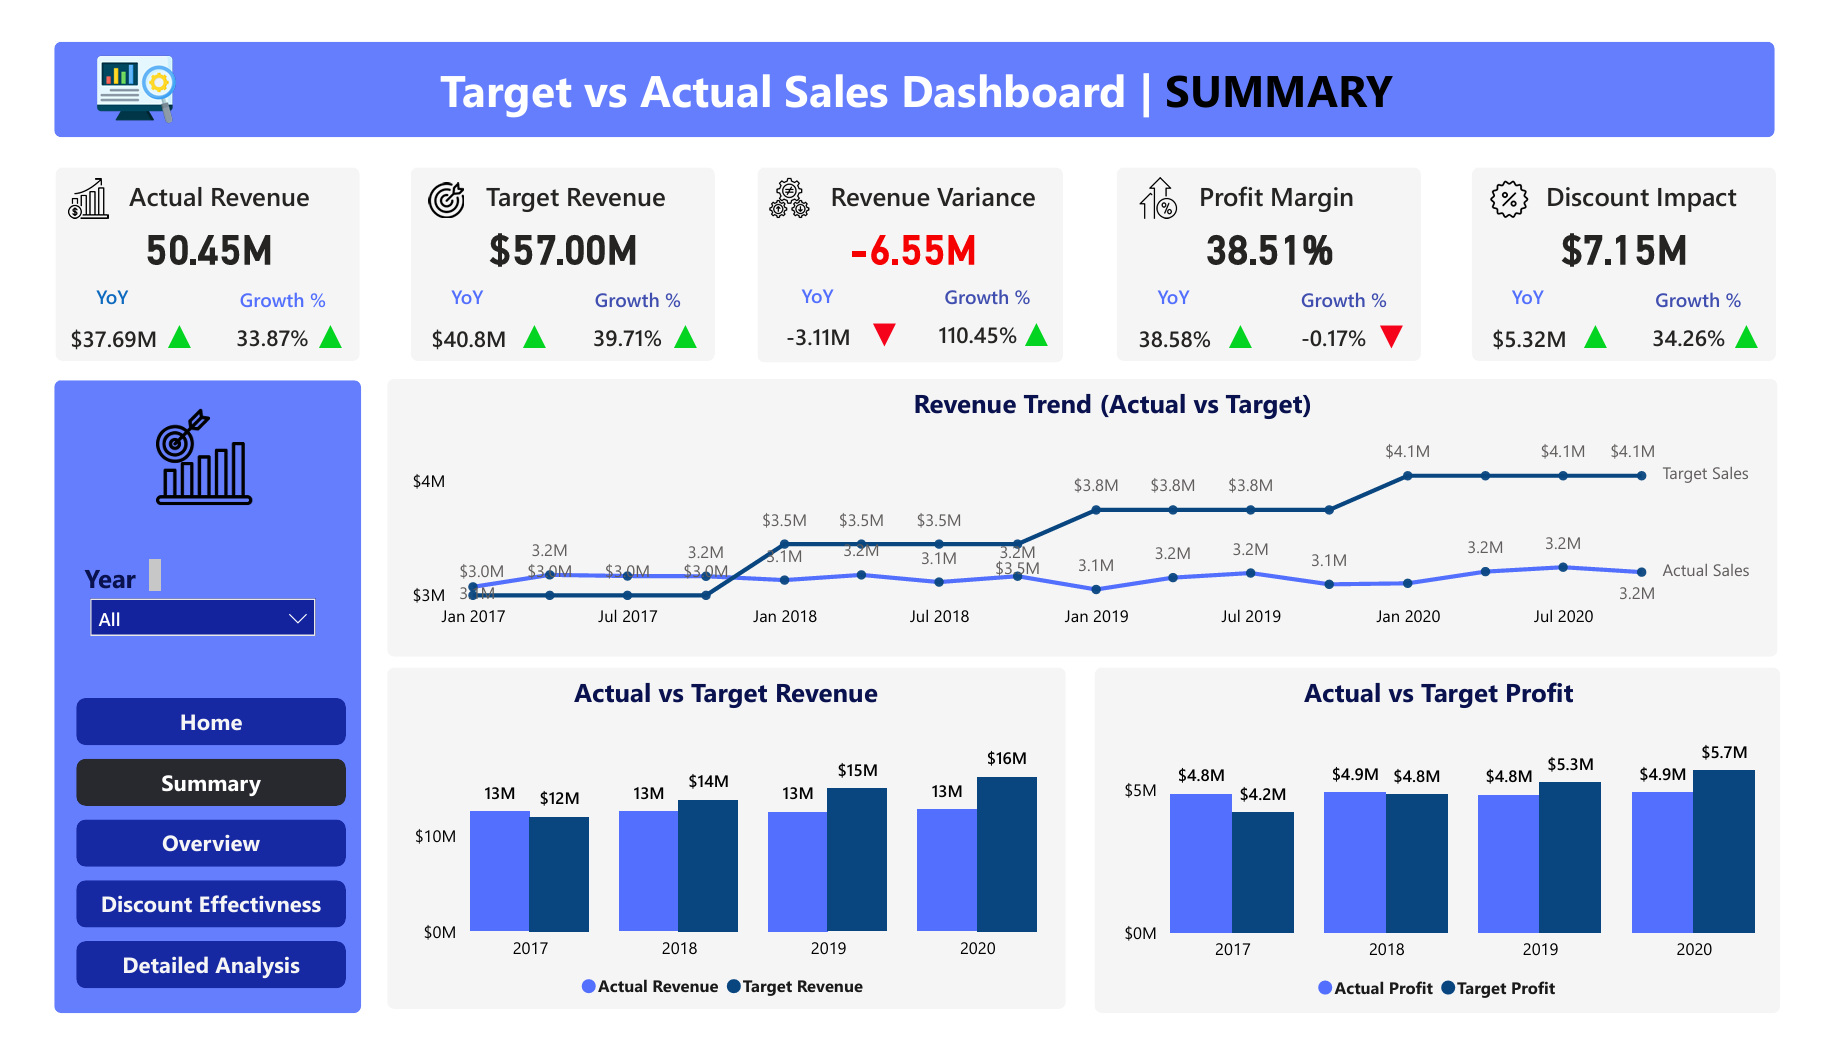

What the dashboard file says about the page in this screenshot:
{"tool":"powerbi","page":{"name":" Summary","canvas":[1280,720],"ordinal":1},"visuals":[{"type":"shape","box":[15.9,7.2,1245.1,69.3],"z":0},{"type":"shape","box":[17.3,98.1,220,140],"z":0,"group":"g3"},{"type":"shape","box":[274.1,98.1,220,140],"z":0,"group":"g4"},{"type":"shape","box":[784.9,98.1,220,140],"z":0,"group":"g5"},{"type":"shape","box":[256.8,251,1005.6,200.5],"z":0,"group":"g7"},{"type":"group","id":"g1","title":"Group 5","box":[256.8,460.2,490.5,249.2],"z":0,"group":"g6"},{"type":"group","id":"g2","title":"Group 6","box":[256.8,460.2,490.5,249.2],"z":0,"group":"g1"},{"type":"shape","box":[256.8,460.2,490.5,246.5],"z":0,"group":"g2"},{"type":"shape","box":[769,460.2,496.3,249.6],"z":0,"group":"g8"},{"type":"shape","box":[1041.7,98.1,220,140],"z":1000},{"type":"card","fields":{"Values":["Calculation_col.Actual Sales"]},"box":[53.4,132.7,148.6,46.2],"z":1000,"group":"g3"},{"type":"card","fields":{"Values":["Calculation_col.Target Sales"]},"box":[310.2,132.7,148.6,46.2],"z":1000,"group":"g4"},{"type":"card","fields":{"Values":["Calculation_col.Profit Margin"]},"box":[821,132.7,148.6,46.2],"z":1000,"group":"g5"},{"type":"lineChart","fields":{"Y":["Calculation_col.Actual Sales","Calculation_col.Target Sales"],"Category":["Calender.Date.Variation.Date Hierarchy.Year","Calender.Date.Variation.Date Hierarchy.Quarter"]},"box":[269.8,270.2,992.6,171.1],"z":1000,"group":"g7"},{"type":"textbox","box":[354.3,460.2,294,42.9],"z":1000,"group":"g2"},{"type":"clusteredColumnChart","fields":{"Category":["Calender.Year"],"Y":["Calculation_col.Actual Profit","Calculation_col.Target Profit"]},"box":[785.4,499,466.4,210.8],"z":1000,"group":"g8"},{"type":"shape","box":[525.2,98.1,220.7,141.4],"z":2000},{"type":"textbox","box":[62,101,147.2,34.6],"z":2000,"group":"g3"},{"type":"textbox","box":[320.3,101,147.2,34.6],"z":2000,"group":"g4"},{"type":"textbox","box":[826.7,101,147.2,34.6],"z":2000,"group":"g5"},{"type":"textbox","box":[589.1,251,385.8,41.3],"z":2000,"group":"g7"},{"type":"textbox","box":[869.2,460.2,297.5,43.4],"z":2000,"group":"g8"},{"type":"clusteredColumnChart","fields":{"Y":["Calculation_col.Actual Sales","Calculation_col.Target Sales"],"Category":["Calender.Year"]},"box":[271,501.2,461,208.3],"z":2000,"group":"g2"},{"type":"card","fields":{"Values":["Calculation_col.Discount Impact"]},"box":[1077.7,132.7,148.6,46.2],"z":3000},{"type":"card","fields":{"Values":["Calculation_col.YoY Sales"]},"box":[17.3,209.2,83.7,30.3],"z":3000,"group":"g3"},{"type":"card","fields":{"Values":["Calculation_col.YoY Target Sales"]},"box":[274.1,209.2,83.7,30.3],"z":3000,"group":"g4"},{"type":"card","fields":{"Values":["Calculation_col.YoY Profit M"]},"box":[784.9,209.2,83.7,30.3],"z":3000,"group":"g5"},{"type":"textbox","box":[15.3,14.4,1249.4,73.6],"z":4000},{"type":"card","fields":{"Values":["Calculation_col.YoY Growth Sales %"]},"box":[132.7,209.2,83.7,27.4],"z":4000,"group":"g3"},{"type":"card","fields":{"Values":["Calculation_col.YoY Target Growth Sales %"]},"box":[389.5,209.2,83.7,27.4],"z":4000,"group":"g4"},{"type":"card","fields":{"Values":["Calculation_col.YoY profit m growth %"]},"box":[900.3,209.2,83.7,27.4],"z":4000,"group":"g5"},{"type":"card","fields":{"Values":["Calculation_col.Sales Varience"]},"box":[562.7,132.7,148.6,46.2],"z":5000},{"type":"textbox","box":[18.7,177.5,79.4,31.7],"z":5000,"group":"g3"},{"type":"textbox","box":[275.5,177.5,79.4,31.7],"z":5000,"group":"g4"},{"type":"textbox","box":[786.3,177.5,79.4,31.7],"z":5000,"group":"g5"},{"type":"textbox","box":[559.8,101,178.9,39],"z":6000},{"type":"textbox","box":[137,178.9,89.5,31.7],"z":6000,"group":"g3"},{"type":"textbox","box":[393.8,178.9,89.5,31.7],"z":6000,"group":"g4"},{"type":"textbox","box":[904.6,178.9,89.5,31.7],"z":6000,"group":"g5"},{"type":"textbox","box":[1083.5,101,161.6,34.6],"z":7000},{"type":"card","fields":{"Values":["Calculation_col.Sales_icon"]},"box":[85.1,203.4,43.3,34.6],"z":7000,"group":"g3"},{"type":"card","fields":{"Values":["Calculation_col.Target 1_icon"]},"box":[341.9,203.4,43.3,34.6],"z":7000,"group":"g4"},{"type":"card","fields":{"Values":["Calculation_col.PM YoY 1"]},"box":[852.7,203.4,43.3,34.6],"z":7000,"group":"g5"},{"type":"card","fields":{"Values":["Calculation_col.Sales_2 icon"]},"box":[194.8,203.4,43.3,34.6],"z":8000,"group":"g3"},{"type":"card","fields":{"Values":["Calculation_col.Target 2_icon"]},"box":[451.6,203.4,43.3,34.6],"z":8000,"group":"g4"},{"type":"card","fields":{"Values":["Calculation_col.PM YoY 2"]},"box":[962.4,203.4,43.3,34.6],"z":8000,"group":"g5"},{"type":"card","fields":{"Values":["Calculation_col.YoY Sales Variance"]},"box":[527.2,207.3,83.7,30.3],"z":8000},{"type":"card","fields":{"Values":["Calculation_col.YoY Discount"]},"box":[1041.7,209.2,83.7,30.3],"z":9000},{"type":"group","id":"g3","title":"Group 1","box":[17.3,98.1,220.7,141.4],"z":10000},{"type":"card","fields":{"Values":["Calculation_col.YoY Discount Growth %"]},"box":[1157.1,209.2,83.7,27.4],"z":11000},{"type":"card","fields":{"Values":["Calculation_col.YoY Sales Variance %"]},"box":[642.6,207.3,83.7,27.4],"z":12000},{"type":"textbox","box":[1043.1,177.5,79.4,31.7],"z":13000},{"type":"group","id":"g4","title":"Group 1","box":[274.1,98.1,220.7,141.4],"z":14000},{"type":"textbox","box":[1161.4,178.9,89.5,31.7],"z":15000},{"type":"textbox","box":[528.6,175.6,79.4,31.7],"z":16000},{"type":"card","fields":{"Values":["Calculation_col.Discount 1_icon"]},"box":[1109.5,203.4,43.3,34.6],"z":17000},{"type":"card","fields":{"Values":["Calculation_col.Discount 2_icon"]},"box":[1219.1,203.4,43.3,34.6],"z":18000},{"type":"textbox","box":[646.9,177,89.5,31.7],"z":19000},{"type":"card","fields":{"Values":["Calculation_col.VAriance 1_icon"]},"box":[595,201.5,43.3,34.6],"z":20000},{"type":"card","fields":{"Values":["Calculation_col.Variance 2_icon"]},"box":[704.6,201.5,43.3,34.6],"z":21000},{"type":"group","id":"g5","title":"Group 1","box":[784.9,98.1,220.7,141.4],"z":22000},{"type":"group","id":"g6","title":"Group 2","box":[256.8,460.2,490.5,249.6],"z":23000},{"type":"group","id":"g7","title":"Group 3","box":[256.8,251,1005.6,200.5],"z":24000},{"type":"group","id":"g8","title":"Group 4","box":[769,460.2,496.3,249.6],"z":25000},{"type":"shape","box":[15.9,252.5,222.2,457.4],"z":26000},{"type":"pageNavigator","box":[31.7,481.9,194.8,210.6],"z":27000},{"type":"slicer","fields":{"Values":["Calender.Year"]},"box":[31.7,399.6,183.2,41.8],"z":28000},{"type":"textbox","box":[23.1,376.6,75,34.6],"z":29000},{"type":"image","box":[11.5,101,57.7,39],"z":30000},{"type":"image","box":[279.9,103.9,39,36.1],"z":31000},{"type":"image","box":[523.7,99.6,47.6,40.4],"z":32000},{"type":"image","box":[789.2,99.6,50.5,40.4],"z":33000},{"type":"image","box":[1047.4,101,43.3,40.4],"z":34000},{"type":"image","box":[0,7.2,150,69.3],"z":35000},{"type":"image","box":[53.4,264,141.4,86.6],"z":36000}]}

Visuals, with their boxes in screenshot pixels (x1, y1, x2, y2), scaled from the page's 1280x720 canvas onto the 1832x1057 screenshot:
shape: select_region(23, 11, 1805, 112)
shape: select_region(25, 144, 340, 350)
shape: select_region(392, 144, 707, 350)
shape: select_region(1123, 144, 1438, 350)
shape: select_region(368, 368, 1807, 663)
"Group 5" group: select_region(368, 676, 1070, 1041)
"Group 6" group: select_region(368, 676, 1070, 1041)
shape: select_region(368, 676, 1070, 1037)
shape: select_region(1101, 676, 1811, 1042)
shape: select_region(1491, 144, 1806, 350)
card - Calculation_col.Actual Sales: select_region(76, 195, 289, 263)
card - Calculation_col.Target Sales: select_region(444, 195, 657, 263)
card - Calculation_col.Profit Margin: select_region(1175, 195, 1388, 263)
lineChart - Calculation_col.Actual Sales x Calculation_col.Target Sales: select_region(386, 397, 1807, 648)
textbox: select_region(507, 676, 928, 739)
clusteredColumnChart - Calender.Year x Calculation_col.Actual Profit: select_region(1124, 733, 1792, 1042)
shape: select_region(752, 144, 1068, 352)
textbox: select_region(89, 148, 299, 199)
textbox: select_region(458, 148, 669, 199)
textbox: select_region(1183, 148, 1394, 199)
textbox: select_region(843, 368, 1395, 429)
textbox: select_region(1244, 676, 1670, 739)
clusteredColumnChart - Calculation_col.Actual Sales x Calculation_col.Target Sales: select_region(388, 736, 1048, 1042)
card - Calculation_col.Discount Impact: select_region(1542, 195, 1755, 263)
card - Calculation_col.YoY Sales: select_region(25, 307, 145, 352)
card - Calculation_col.YoY Target Sales: select_region(392, 307, 512, 352)
card - Calculation_col.YoY Profit M: select_region(1123, 307, 1243, 352)
textbox: select_region(22, 21, 1810, 129)
card - Calculation_col.YoY Growth Sales %: select_region(190, 307, 310, 347)
card - Calculation_col.YoY Target Growth Sales %: select_region(557, 307, 677, 347)
card - Calculation_col.YoY profit m growth %: select_region(1289, 307, 1408, 347)
card - Calculation_col.Sales Varience: select_region(805, 195, 1018, 263)
textbox: select_region(27, 261, 140, 307)
textbox: select_region(394, 261, 508, 307)
textbox: select_region(1125, 261, 1239, 307)
textbox: select_region(801, 148, 1057, 206)
textbox: select_region(196, 263, 324, 309)
textbox: select_region(564, 263, 692, 309)
textbox: select_region(1295, 263, 1423, 309)
textbox: select_region(1551, 148, 1782, 199)
card - Calculation_col.Sales_icon: select_region(122, 299, 184, 349)
card - Calculation_col.Target 1_icon: select_region(489, 299, 551, 349)
card - Calculation_col.PM YoY 1: select_region(1220, 299, 1282, 349)
card - Calculation_col.Sales_2 icon: select_region(279, 299, 341, 349)
card - Calculation_col.Target 2_icon: select_region(646, 299, 708, 349)
card - Calculation_col.PM YoY 2: select_region(1377, 299, 1439, 349)
card - Calculation_col.YoY Sales Variance: select_region(755, 304, 874, 349)
card - Calculation_col.YoY Discount: select_region(1491, 307, 1611, 352)
"Group 1" group: select_region(25, 144, 341, 352)
card - Calculation_col.YoY Discount Growth %: select_region(1656, 307, 1776, 347)
card - Calculation_col.YoY Sales Variance %: select_region(920, 304, 1040, 345)
textbox: select_region(1493, 261, 1607, 307)
"Group 1" group: select_region(392, 144, 708, 352)
textbox: select_region(1662, 263, 1790, 309)
textbox: select_region(757, 258, 870, 304)
card - Calculation_col.Discount 1_icon: select_region(1588, 299, 1650, 349)
card - Calculation_col.Discount 2_icon: select_region(1745, 299, 1807, 349)
textbox: select_region(926, 260, 1054, 306)
card - Calculation_col.VAriance 1_icon: select_region(852, 296, 914, 347)
card - Calculation_col.Variance 2_icon: select_region(1008, 296, 1070, 347)
"Group 1" group: select_region(1123, 144, 1439, 352)
"Group 2" group: select_region(368, 676, 1070, 1042)
"Group 3" group: select_region(368, 368, 1807, 663)
"Group 4" group: select_region(1101, 676, 1811, 1042)
shape: select_region(23, 371, 341, 1042)
pageNavigator: select_region(45, 707, 324, 1017)
slicer - Calender.Year: select_region(45, 587, 308, 648)
textbox: select_region(33, 553, 140, 604)
image: select_region(16, 148, 99, 206)
image: select_region(401, 153, 456, 206)
image: select_region(750, 146, 818, 206)
image: select_region(1130, 146, 1202, 206)
image: select_region(1499, 148, 1561, 208)
image: select_region(0, 11, 215, 112)
image: select_region(76, 388, 279, 515)
